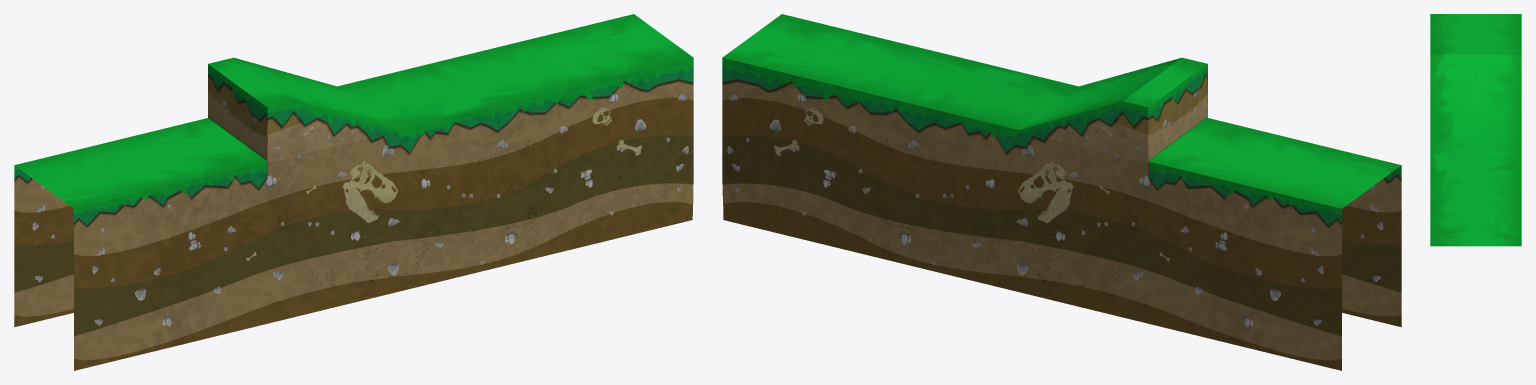
Rendered from level_1.fbx.
The picture shows the model from 3 angles, left to right: view 1: azimuth 30°, elevation 25°; view 2: azimuth 150°, elevation 25°; view 3: azimuth 270°, elevation 25°; orthographic projection. The views are drawn at different scales.
Visible parts, largest first — view 1: main; view 2: main; view 3: main.
Part boxes in pixels (x1=…): main: x1=14, y1=14, x2=693, y2=370; main: x1=722, y1=14, x2=1401, y2=370; main: x1=1430, y1=14, x2=1521, y2=246.
Bounding box in the file's own units: 24 × 8 × 4.
1 material, 1 textured.
